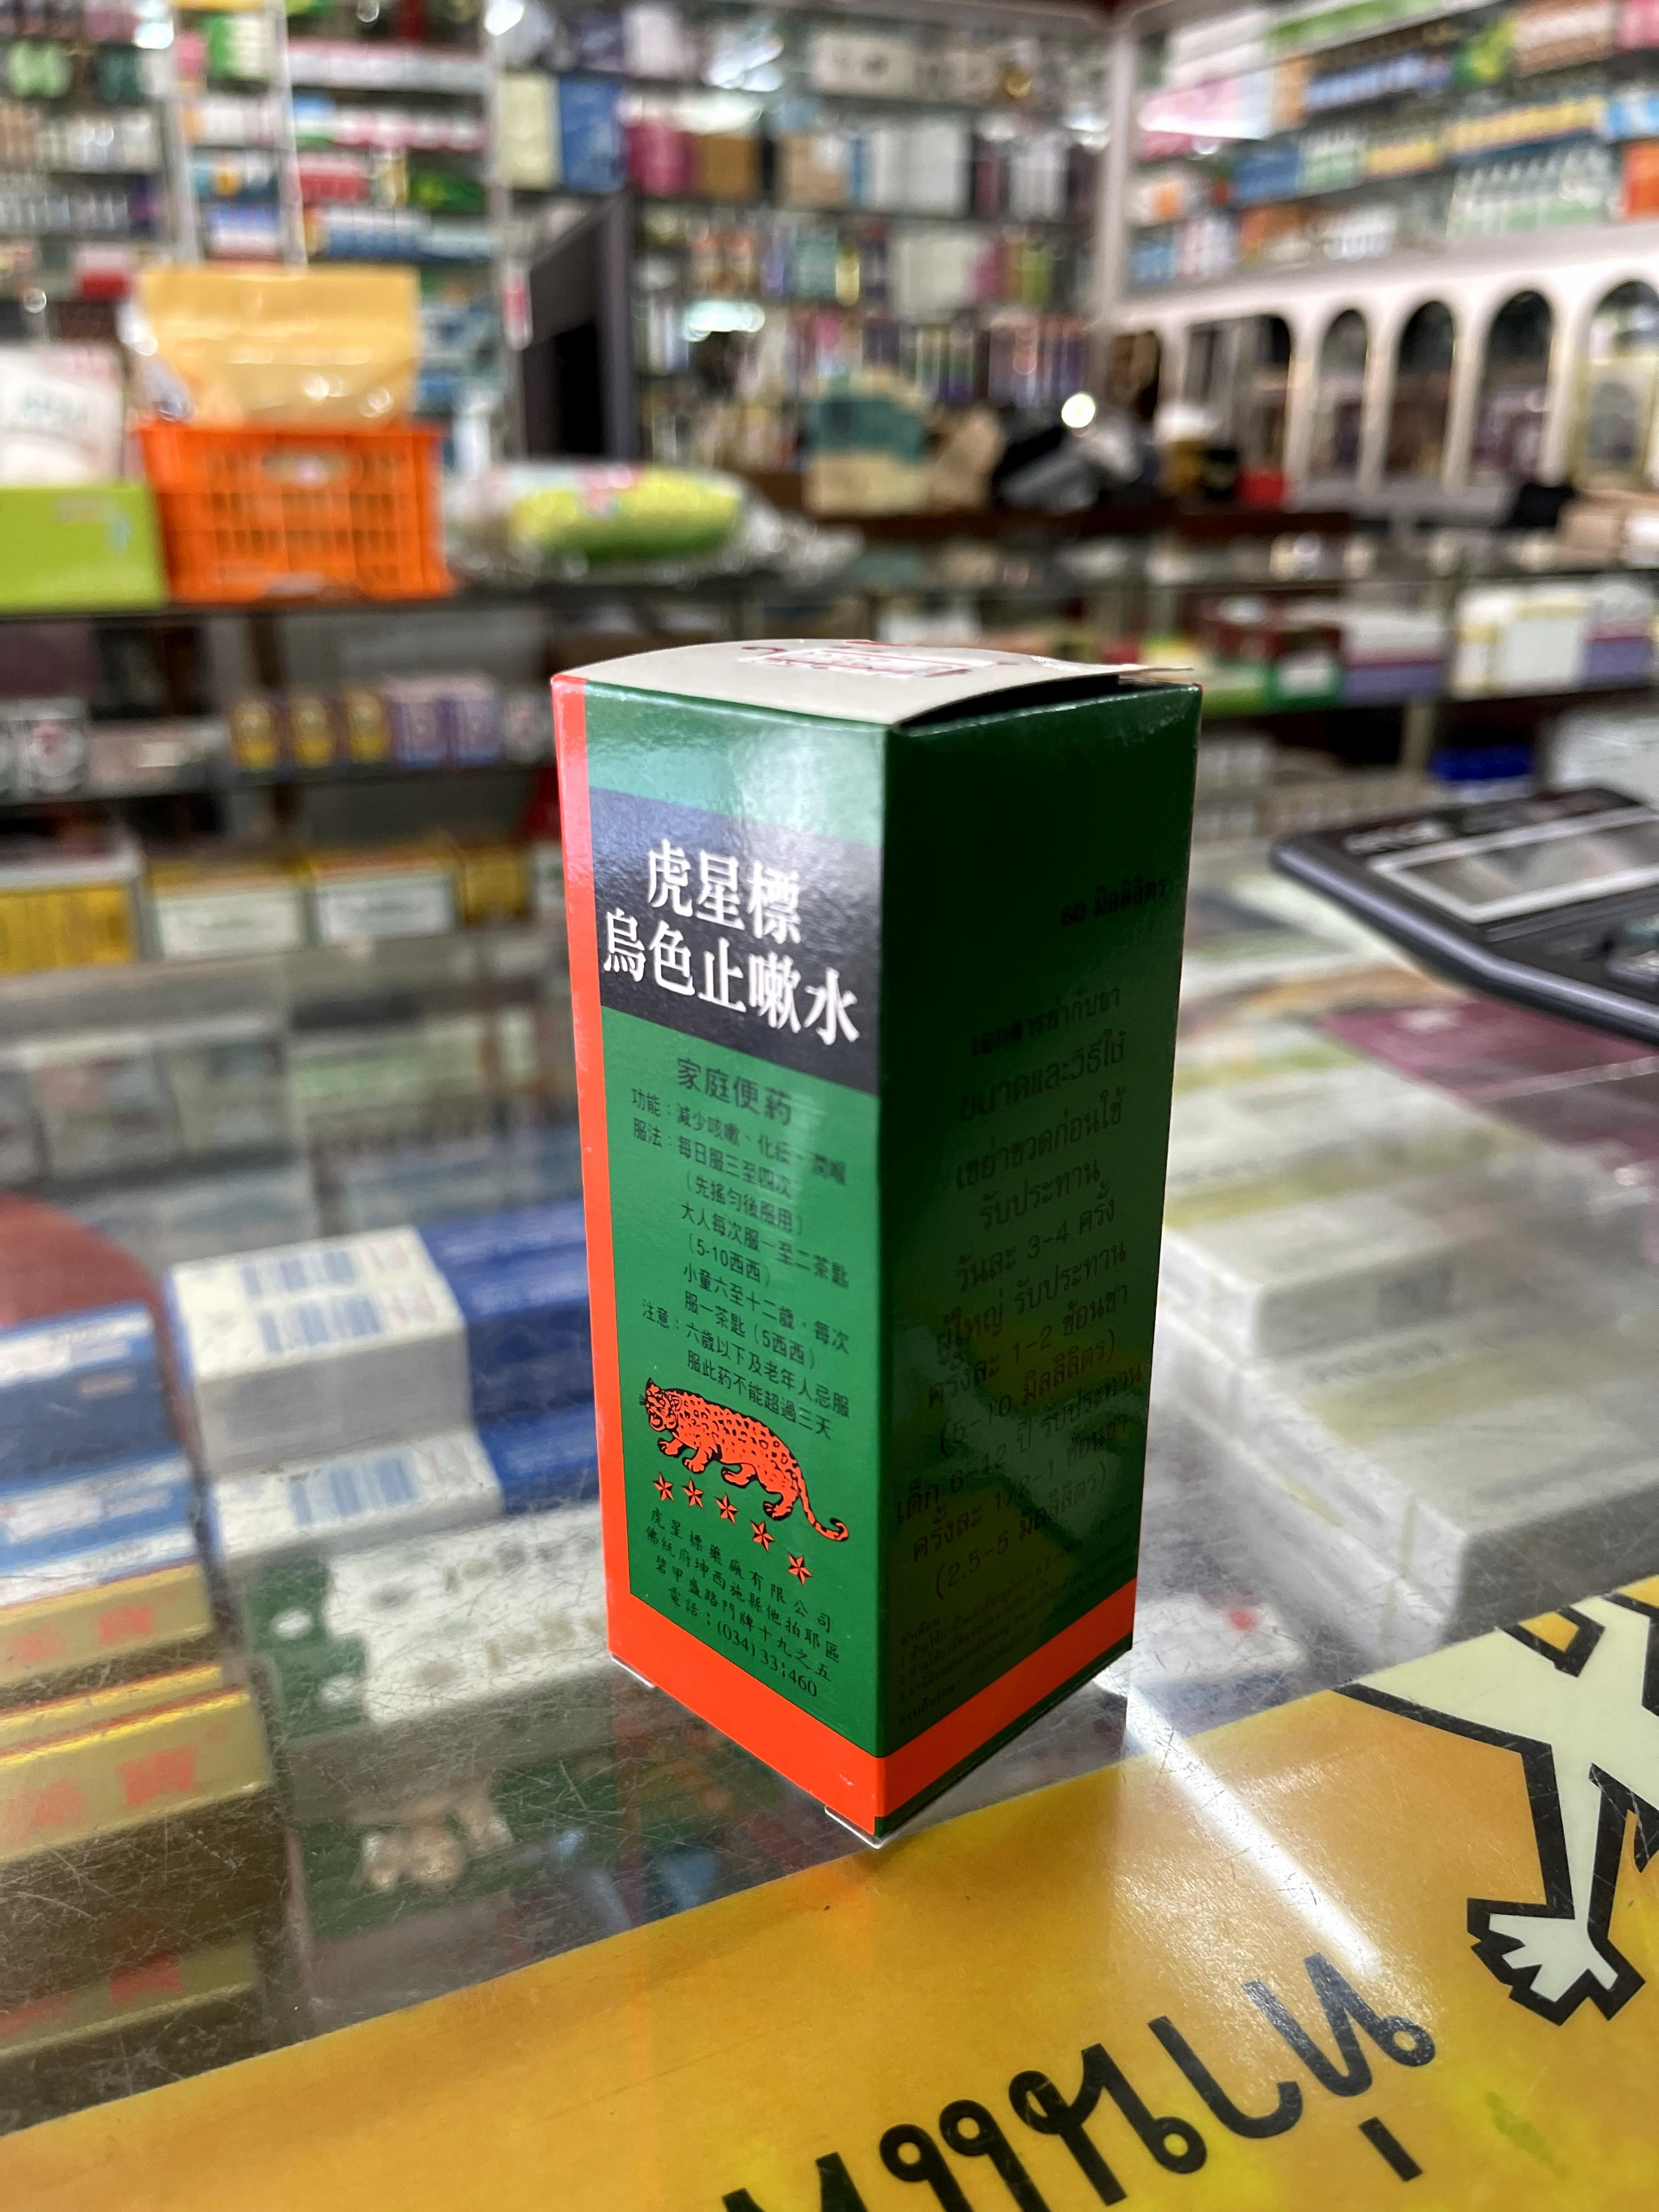Black-Tiger: (554, 639, 1199, 1841)
